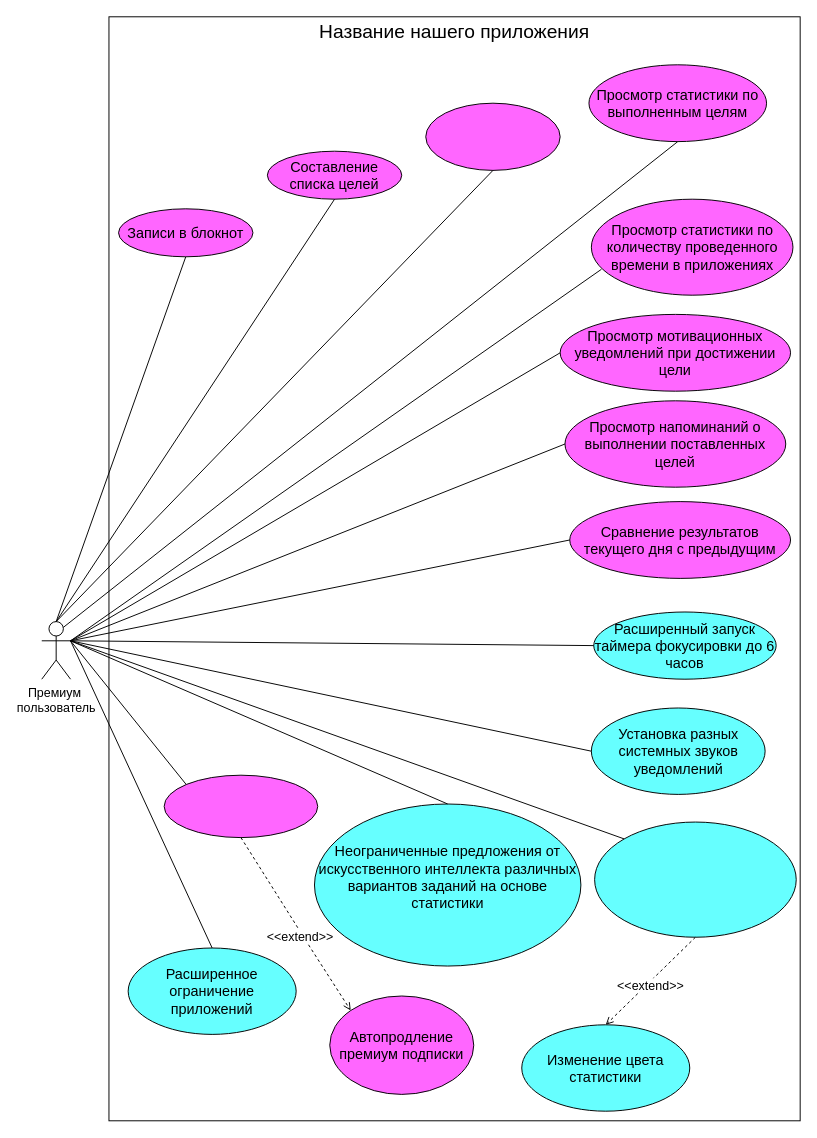
This 817x1138 diagram has some shape labels left out. Each missing label, with the box of its shape:
Выход из аккаунта: (425, 102, 560, 170)
Изменение цвета темы интерфейса: (594, 821, 796, 937)
Покупка премиум подпски: (163, 774, 318, 838)
